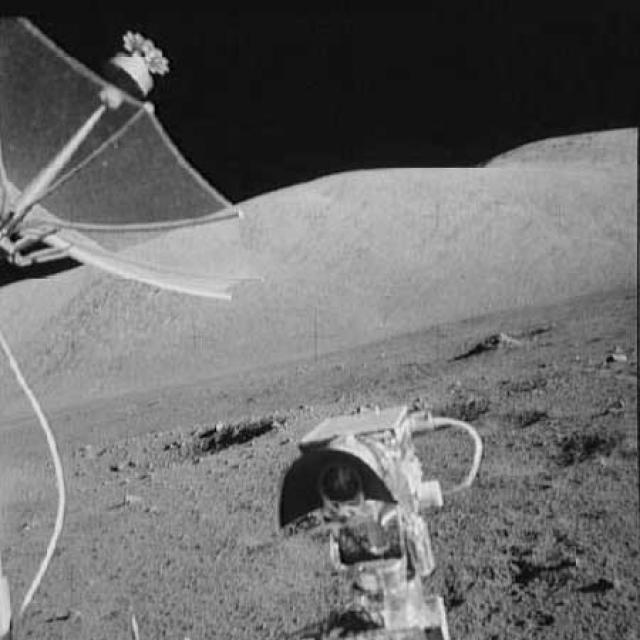artifact: (0, 11, 261, 312), (273, 407, 489, 639), (1, 332, 76, 638)
crater: (84, 418, 270, 463), (532, 433, 619, 465), (478, 410, 552, 431)
rock: (458, 326, 533, 359), (604, 344, 627, 366)
